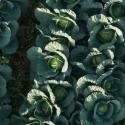cabbage: (98, 27, 114, 42), (93, 102, 108, 118), (55, 15, 71, 30), (52, 83, 70, 96), (92, 52, 107, 67), (46, 53, 62, 67), (104, 78, 118, 93), (36, 102, 57, 112), (110, 5, 125, 17), (0, 0, 8, 12), (28, 122, 46, 125)
